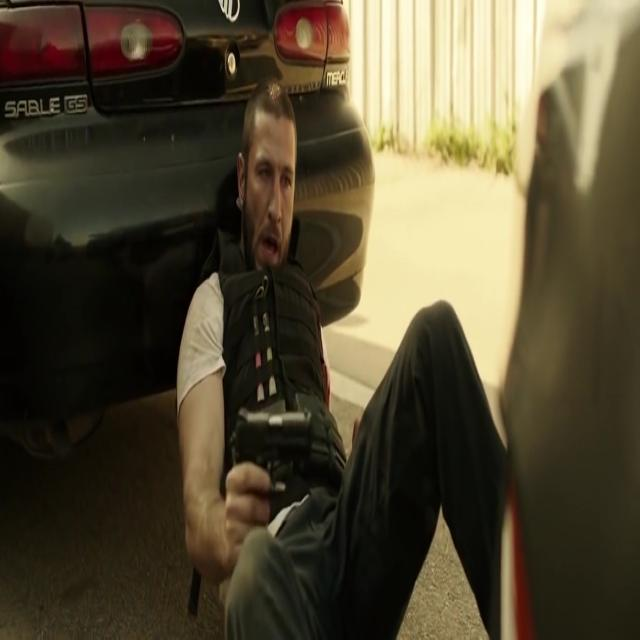Weapon: (220, 411, 312, 550)
